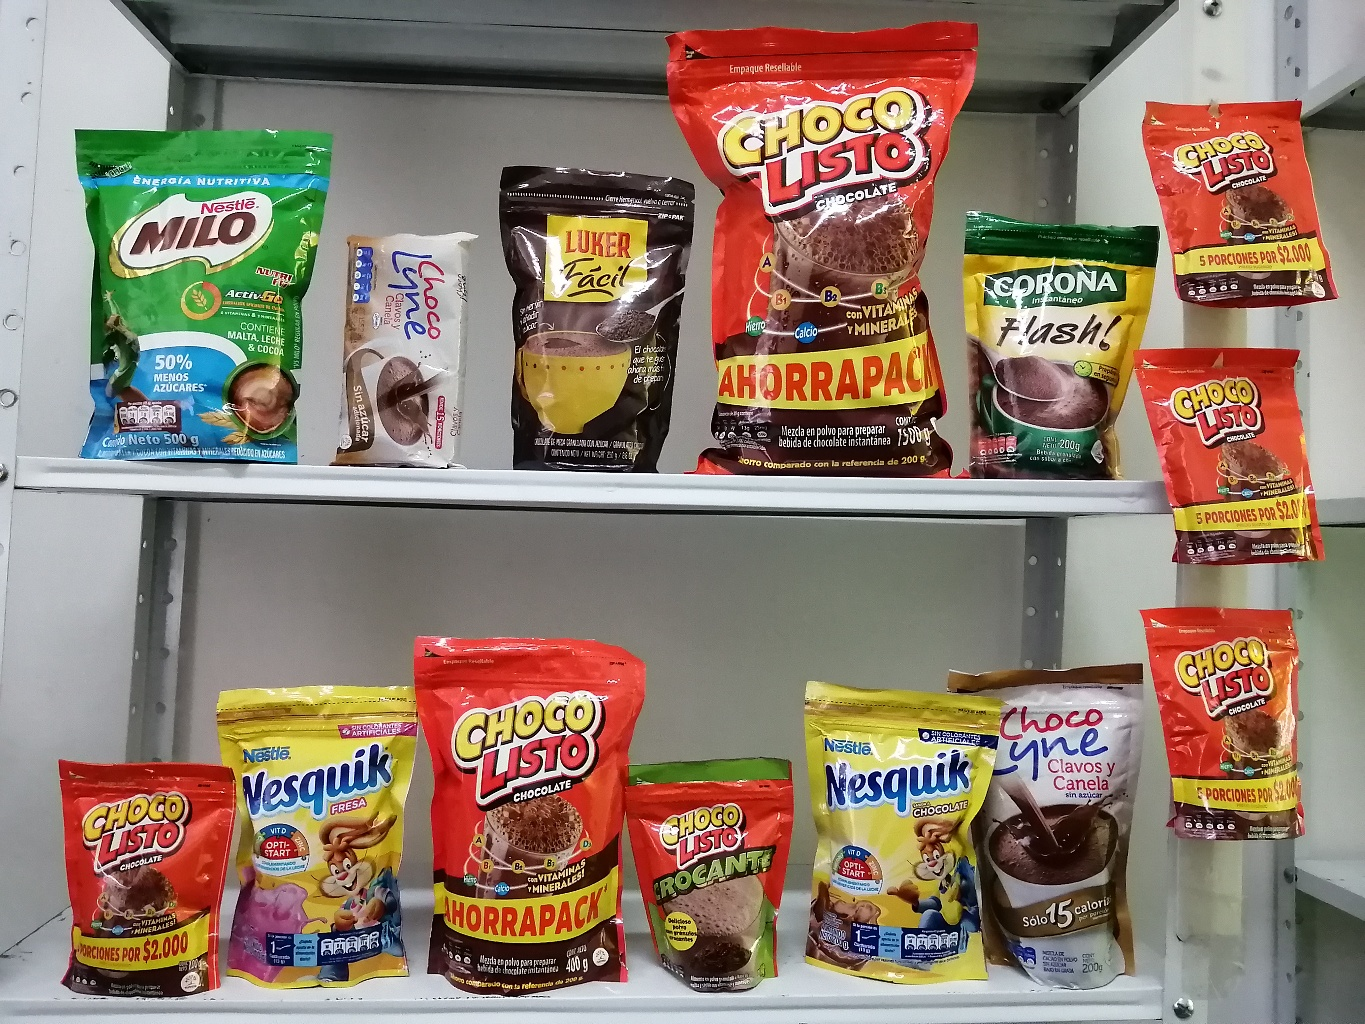COL0170102DYP10000: (625, 752, 804, 1005)
COL0170103DYP1,500: (663, 23, 976, 488)
COL0170103DYP10000: (51, 754, 231, 1002)
COL0170103DYP40000: (411, 627, 641, 1004)
COL0170205DYP50000: (70, 113, 343, 468)
COL0170303DYP20000: (806, 675, 1000, 991)
COL0170305DYP20000: (214, 677, 430, 997)
